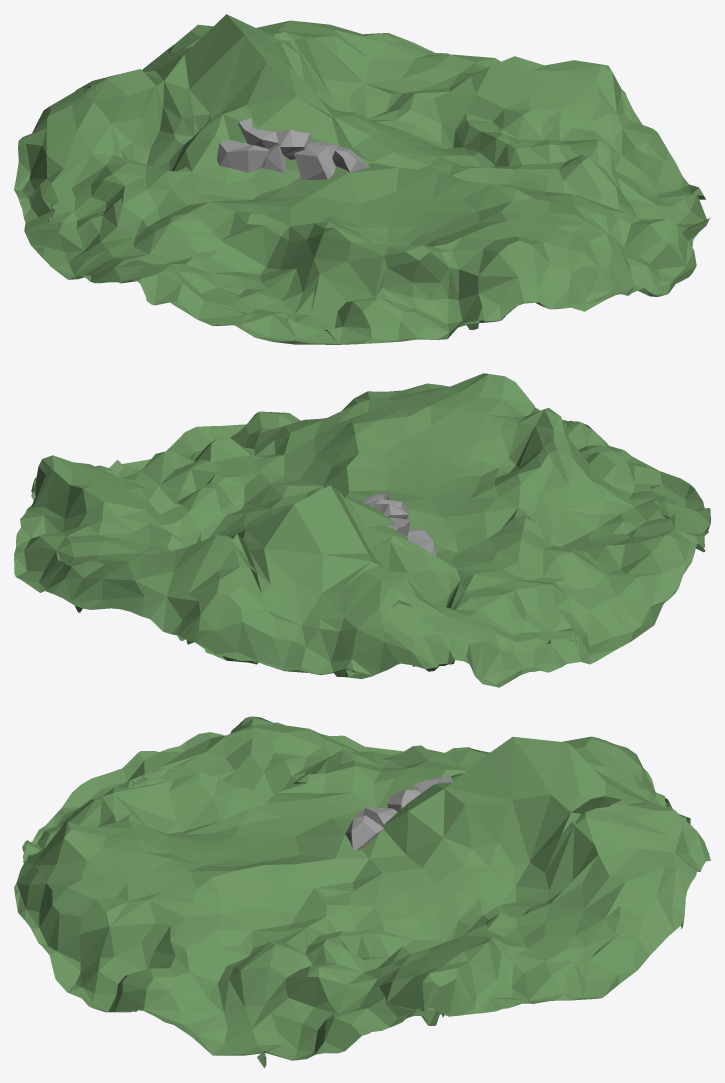
The model's file is map.glb.
3 renders of one model, top to bottom at view 1: azimuth 30°, elevation 25°; view 2: azimuth 150°, elevation 25°; view 3: azimuth 270°, elevation 25°, orthographic. The views are drawn at different scales.
Visible parts, largest first — view 1: Map, Cube.030; view 2: Map, Cube.030; view 3: Map, Cube.030.
Boxes of the visible parts, x1,y1,x2,y2 form: Map: (14,14,710,344); Cube.030: (217,118,369,179); Map: (14,373,710,687); Cube.030: (360,494,436,555); Map: (14,716,710,1067); Cube.030: (345,776,452,850).
Size of what is drawn, in the model's own units: 72.27 by 18.55 by 72.19.
